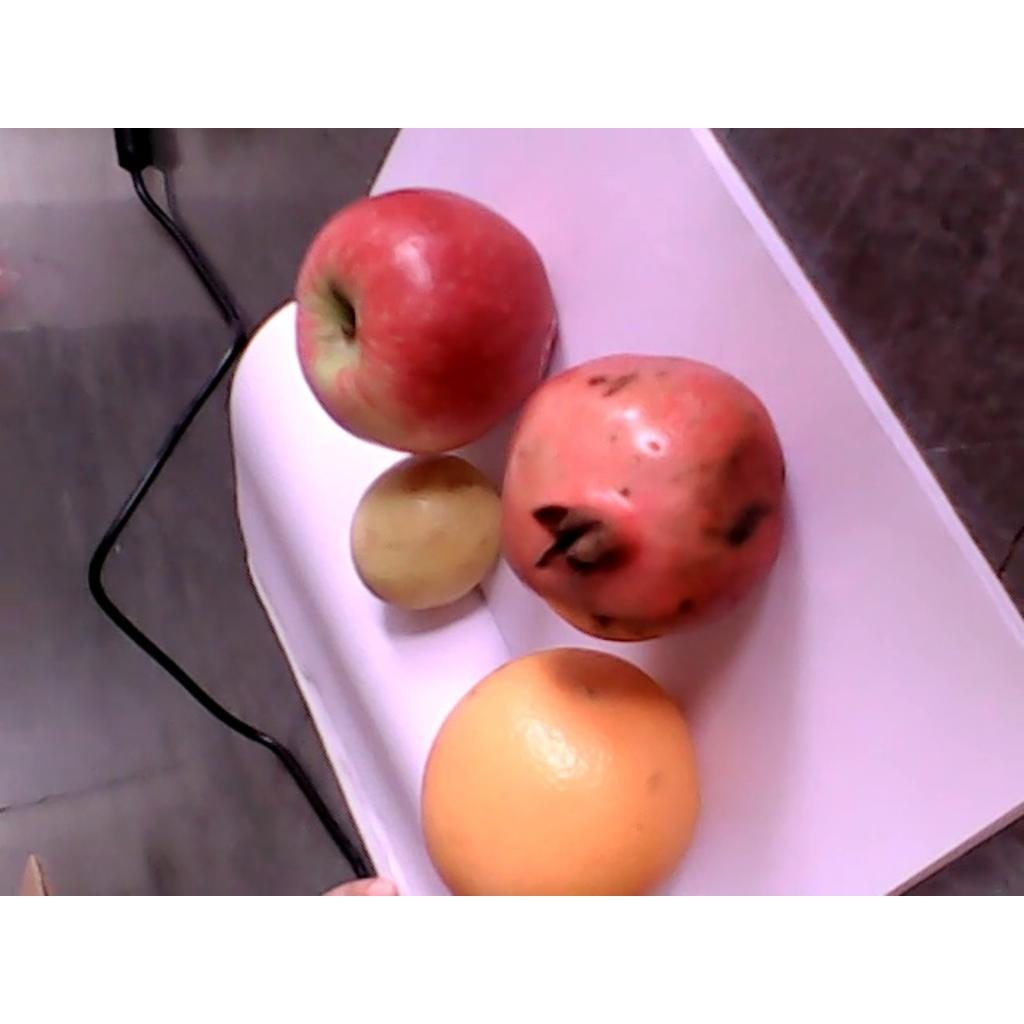apple: (294, 190, 558, 454)
lemon: (350, 456, 506, 608)
orange: (417, 645, 701, 894)
pomegranate: (498, 355, 786, 639)
